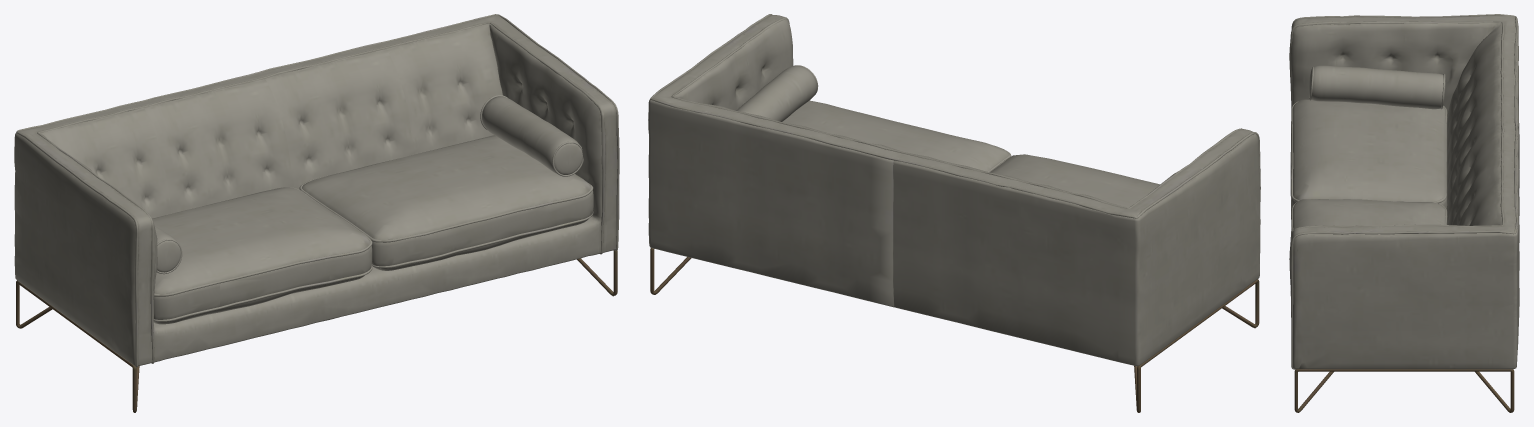
Rendered from sofa.glb.
3 views of the same model, side by side, from view 1: azimuth 30°, elevation 25°; view 2: azimuth 150°, elevation 25°; view 3: azimuth 270°, elevation 25° (orthographic). The views are drawn at different scales.
Parts seen in each view (by area): view 1: RootNode; view 2: RootNode; view 3: RootNode.
Part boxes in pixels (x1,y1,x2,y2): RootNode: (14, 14, 619, 412); RootNode: (648, 14, 1260, 412); RootNode: (1289, 14, 1519, 412).
Size of the model in its own units: 2.08 by 0.7979 by 0.9124.
Materials: 1 (1 with a texture image).
